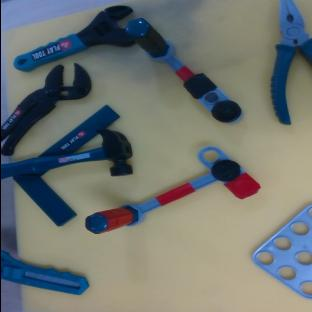non_pass: (119, 13, 244, 131)
pass: (73, 137, 261, 237)
